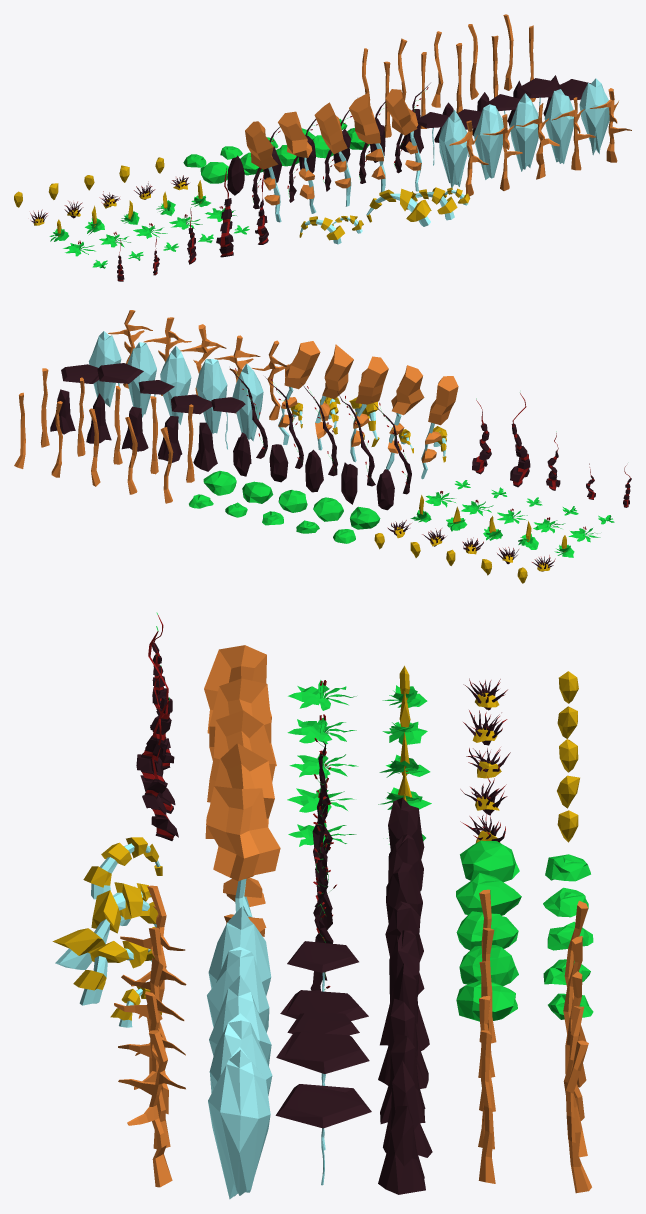
The model's file is PropOmgeving.FBX.
3 renders of one model, top to bottom at view 1: azimuth 30°, elevation 25°; view 2: azimuth 150°, elevation 25°; view 3: azimuth 270°, elevation 25°, orthographic. The views are drawn at different scales.
Parts seen in each view (by area): view 1: Crystal007, Crystal006, Crystal008, Crystal010, Three002, Three005, Crystal009, Three004, Three001, Three003, Curve three003, Toxic plant004 (+17 smaller); view 2: Three003, Three001, Three002, Three004, Three005, Crystal006, Crystal007, Crystal008, Crystal009, Crystal010, Crystal001, Three007 (+41 smaller); view 3: Crystal010, Three001, Curve three003, Three006, Three002, Three007, Crystal005, Three003, Three004, Dead three005, Crystal006, Crystal007 (+38 smaller).
Boxes of the visible parts, x1,y1,x2,y2 form: Crystal007: (473,104,503,179); Crystal006: (439,110,468,187); Crystal008: (509,93,538,171); Crystal010: (579,78,609,155); Three002: (349,92,385,192); Three005: (245,121,281,222); Crystal009: (544,89,573,163); Three004: (278,111,316,213); Three001: (385,89,421,191); Three003: (314,102,351,206); Curve three003: (366,188,431,226); Toxic plant004: (216,168,233,257); Three003: (350,356,388,462); Three001: (278,341,320,444); Three002: (315,344,353,450); Three004: (386,365,424,470); Three005: (421,376,458,479); Crystal006: (232,363,263,441); Crystal007: (196,359,227,433); Crystal008: (160,346,191,424); Crystal009: (127,342,156,417); Crystal010: (88,331,121,406); Crystal001: (193,422,217,471); Three007: (97,363,143,386); Crystal010: (208,1047,270,1199); Three001: (206,786,280,931); Curve three003: (52,882,162,969); Three006: (275,1084,371,1185); Three002: (205,743,274,936); Three007: (276,1032,369,1150); Crystal005: (378,1106,425,1194); Three003: (207,710,275,906); Three004: (209,678,276,766); Dead three005: (118,1030,185,1187); Crystal006: (208,907,271,995); Crystal007: (207,947,269,1032).
Size of the model in its own units: 1188 by 252 by 522.
